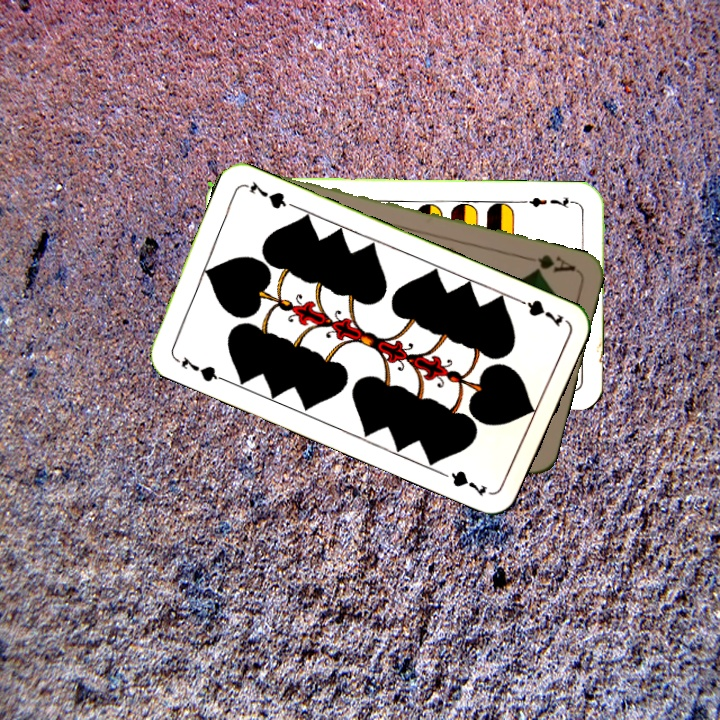E7: (520, 192, 579, 211)
G7: (511, 293, 566, 330), (170, 352, 226, 385)
GA: (530, 250, 578, 275)
